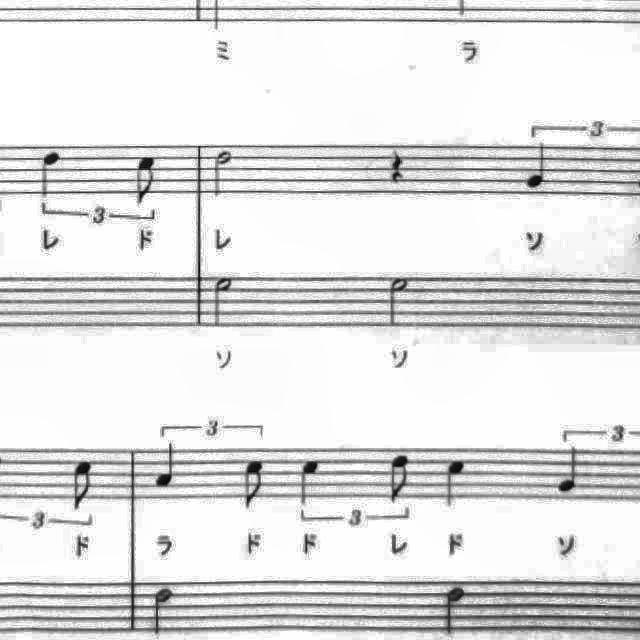Eighth-note: (128, 148, 166, 210), (236, 454, 272, 518), (65, 456, 102, 516), (382, 451, 418, 509)
Half-note: (206, 270, 242, 332), (146, 580, 182, 638), (380, 272, 412, 332), (206, 145, 238, 203), (440, 580, 472, 638)
Quarter-note: (550, 438, 592, 498), (438, 454, 474, 514), (32, 144, 68, 203), (294, 453, 330, 511), (520, 140, 556, 196), (150, 438, 186, 492)
Quarter-rest: (381, 142, 411, 190)
